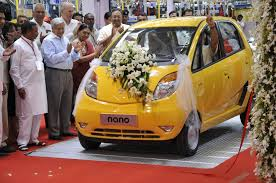Nano: (76, 15, 254, 156)
